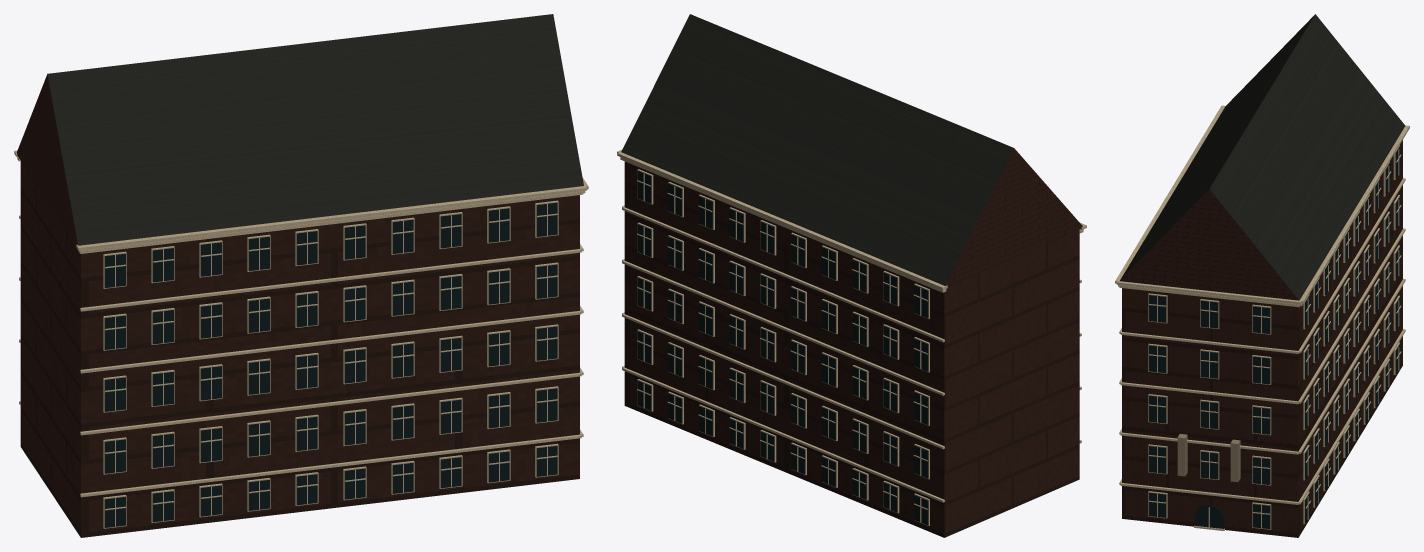
The picture shows the model from 3 angles, left to right: view 1: azimuth 30°, elevation 25°; view 2: azimuth 150°, elevation 25°; view 3: azimuth 270°, elevation 25°; orthographic projection. The views are drawn at different scales.
Visible parts, largest first — view 1: hermesgebouw-0, hermesgebouw-1, hermesgebouw-3, hermesgebouw-2; view 2: hermesgebouw-0, hermesgebouw-1, hermesgebouw-3, hermesgebouw-2; view 3: hermesgebouw-0, hermesgebouw-1, hermesgebouw-2, hermesgebouw-3, hermesgebouw-4.
Boxes of the visible parts, x1,y1,x2,y2 form: hermesgebouw-0: [16, 74, 579, 537]; hermesgebouw-1: [47, 14, 583, 245]; hermesgebouw-3: [104, 202, 557, 527]; hermesgebouw-2: [14, 150, 588, 528]; hermesgebouw-0: [624, 148, 1082, 537]; hermesgebouw-1: [621, 14, 1013, 285]; hermesgebouw-3: [637, 171, 928, 525]; hermesgebouw-2: [617, 149, 1086, 525]; hermesgebouw-0: [1120, 140, 1402, 537]; hermesgebouw-1: [1120, 14, 1405, 300]; hermesgebouw-2: [1115, 105, 1409, 530]; hermesgebouw-3: [1149, 146, 1400, 528]; hermesgebouw-4: [1177, 434, 1240, 482].
Size of the model in its own units: 40.87 by 33 by 25.87.
Materials: 5 (5 with a texture image).
